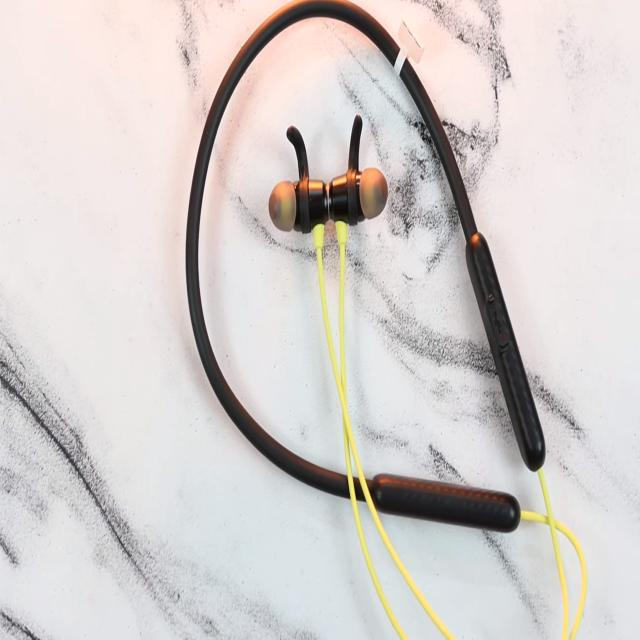Neckband: (185, 0, 587, 640)
